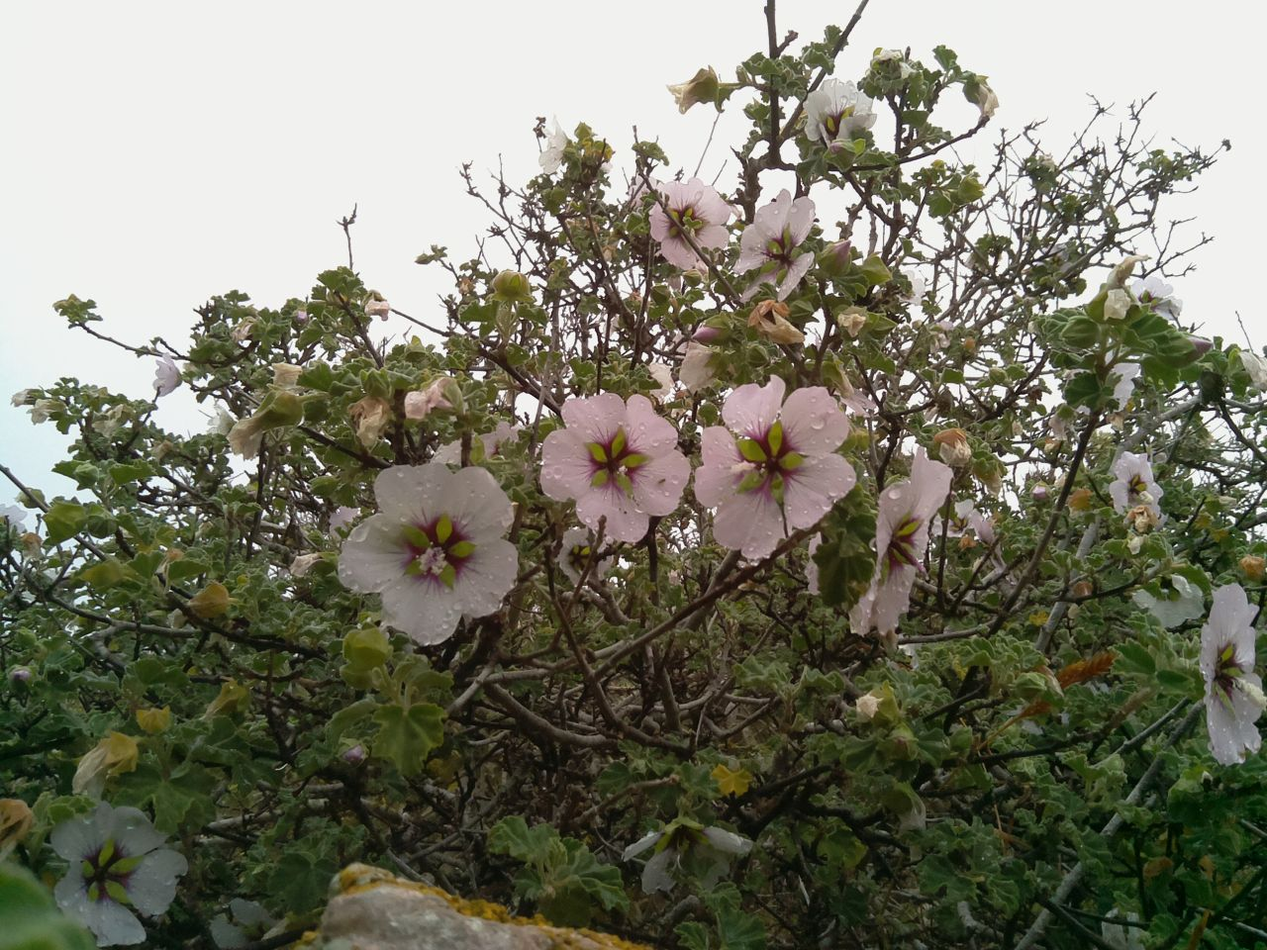Fly: (648, 473, 673, 491)
